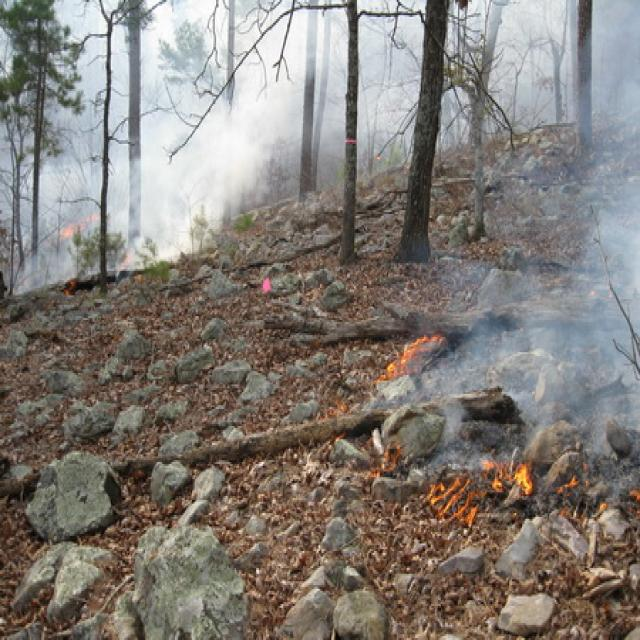Fire: (427, 458, 540, 524)
Smoke: (108, 91, 257, 252), (494, 295, 640, 454)
